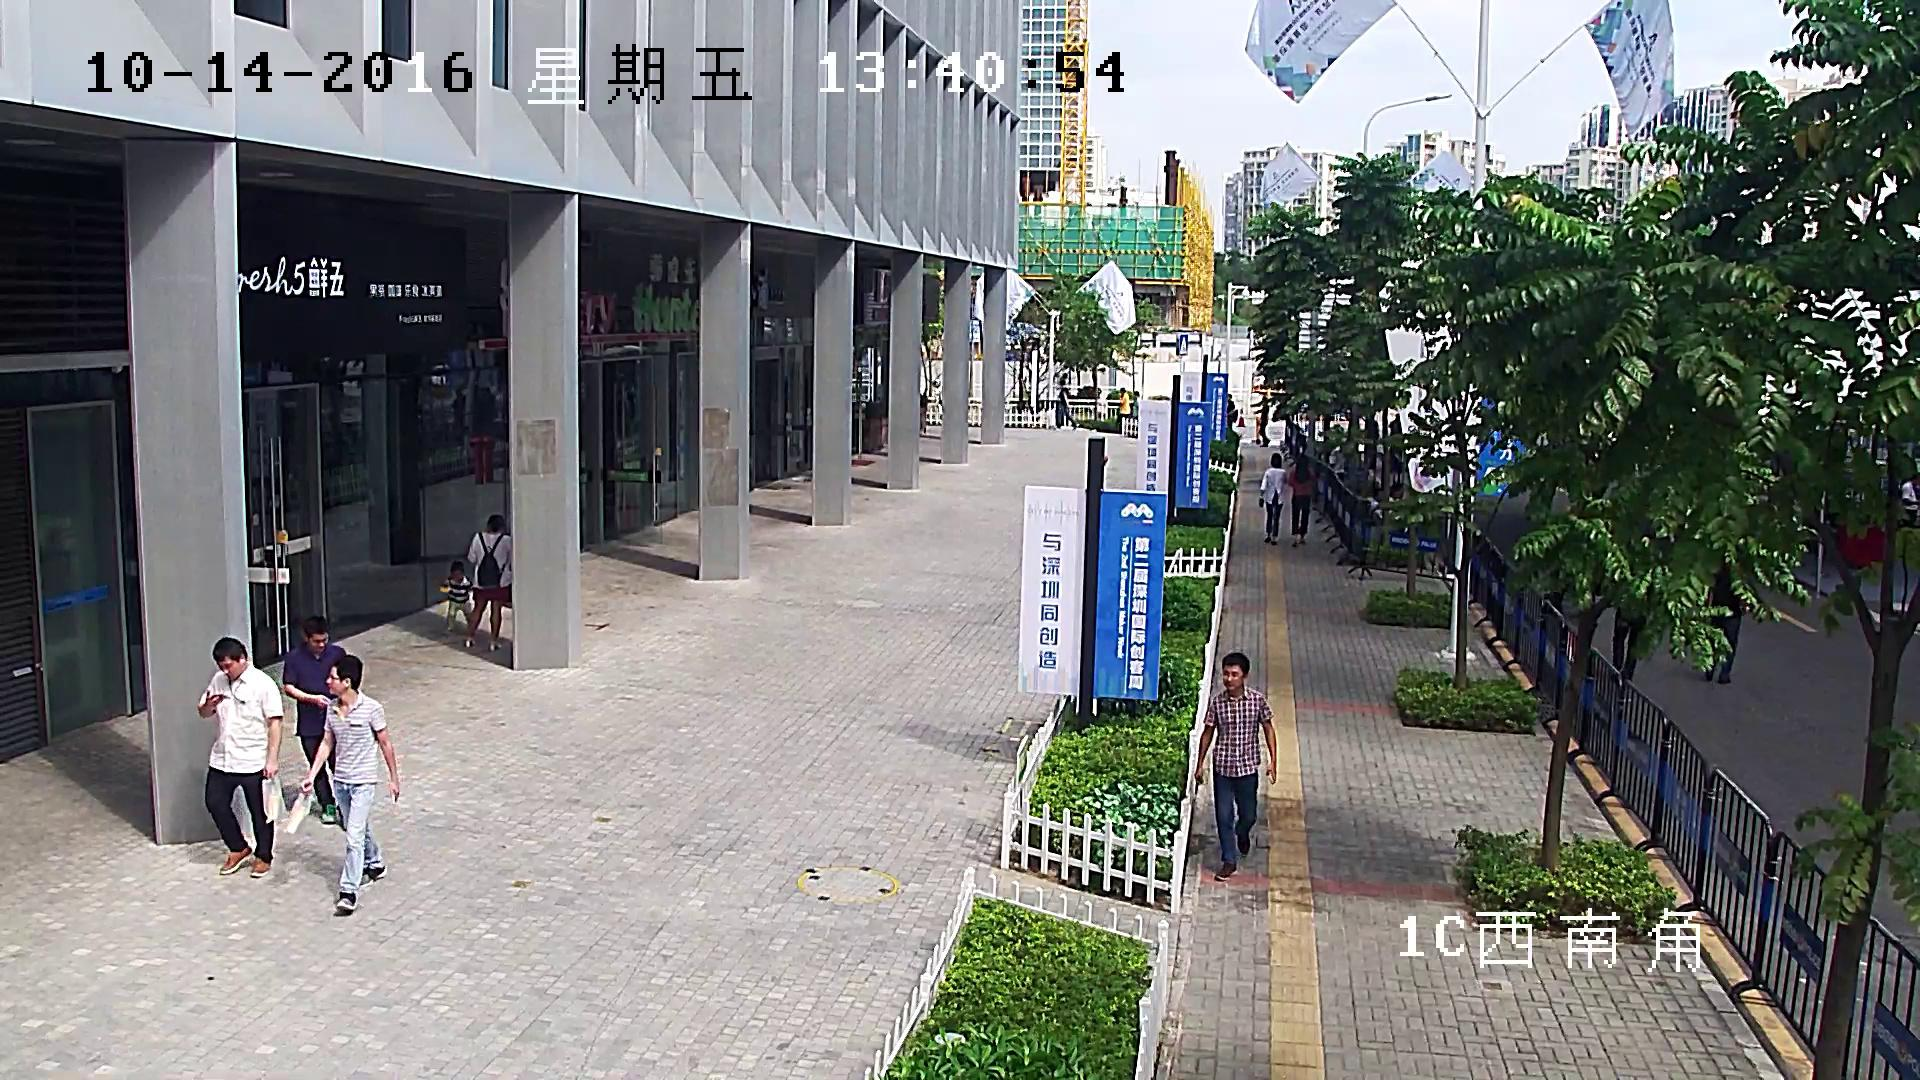person: (282, 654, 401, 910), (197, 636, 284, 878), (1192, 650, 1277, 881), (282, 614, 347, 825), (462, 513, 512, 652), (1704, 553, 1747, 685), (1611, 584, 1653, 681), (1257, 452, 1288, 545), (1287, 453, 1315, 547), (438, 560, 473, 632), (1052, 378, 1078, 429), (1252, 397, 1270, 448), (1115, 387, 1130, 423), (1226, 393, 1234, 430), (1131, 390, 1141, 418)
